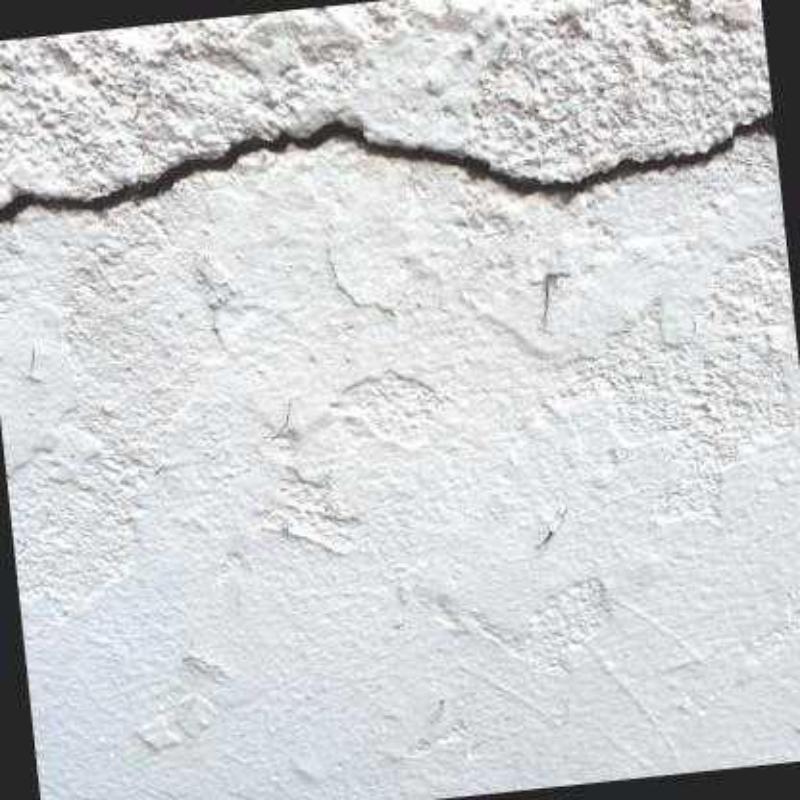crack: (0, 106, 773, 226)
